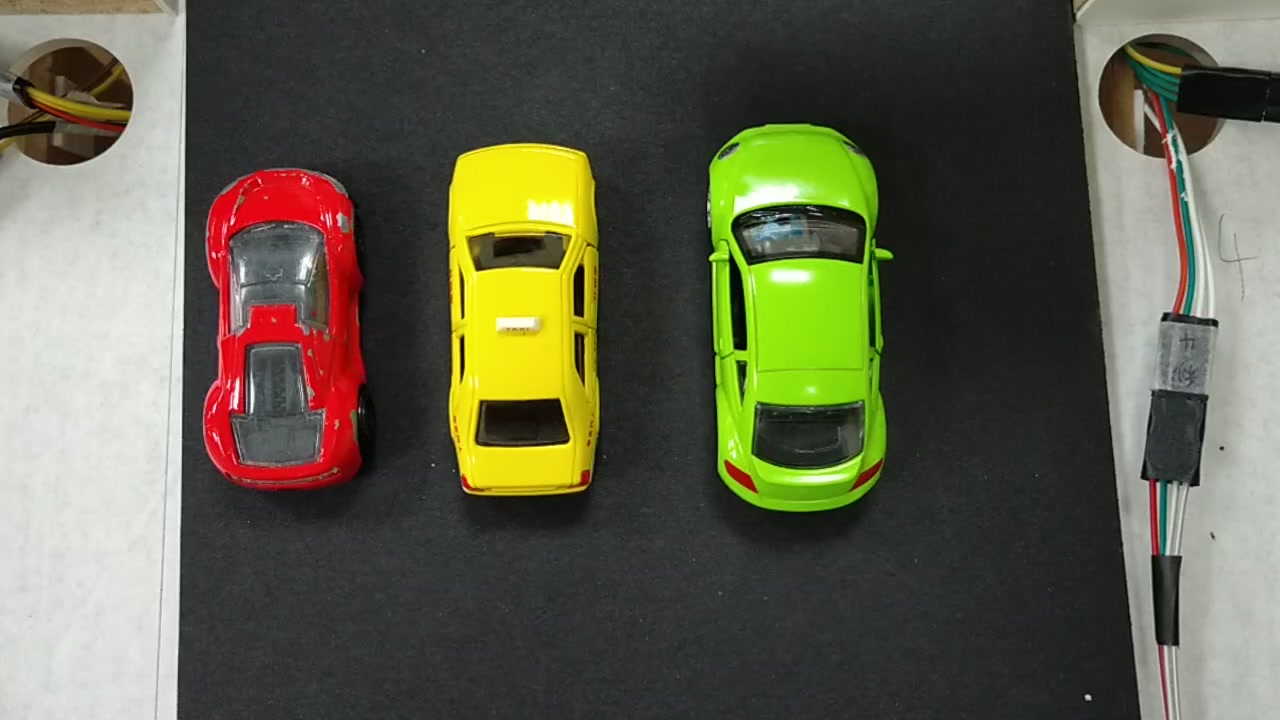car: (715, 136, 886, 512), (457, 149, 599, 499), (214, 165, 351, 481)
